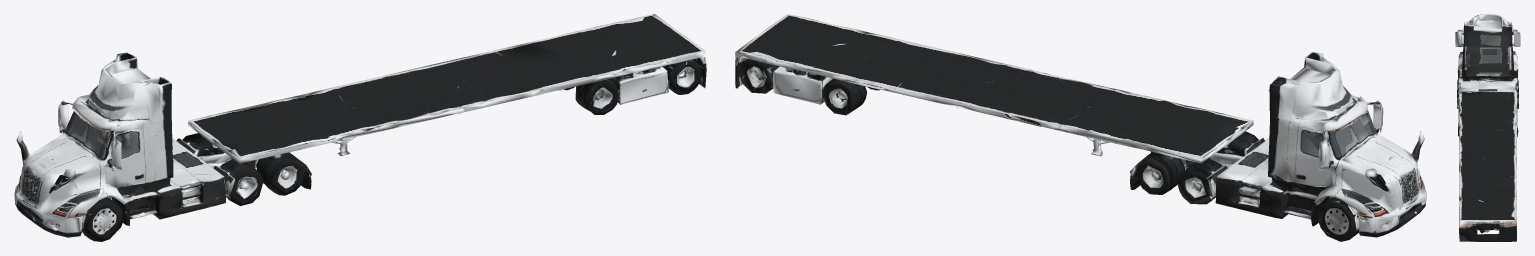
Rendered from freight_semi.glb.
3 renders of one model, left to right at view 1: azimuth 30°, elevation 25°; view 2: azimuth 150°, elevation 25°; view 3: azimuth 270°, elevation 25°, orthographic. The views are drawn at different scales.
Bounding box in the file's own units: 1.9 × 0.3862 × 0.2986.
Materials: 1 (1 with a texture image).
